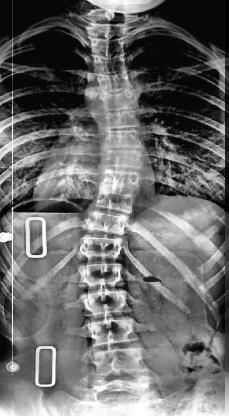Vertebrae: (90, 346, 150, 378), (86, 315, 140, 347), (78, 288, 134, 318), (77, 258, 129, 290), (82, 208, 130, 240), (98, 168, 144, 198), (76, 235, 128, 261), (93, 187, 138, 215), (100, 146, 144, 172), (101, 126, 143, 152), (100, 88, 140, 114), (92, 54, 130, 78), (96, 72, 136, 94), (90, 36, 128, 58), (104, 107, 140, 130)
